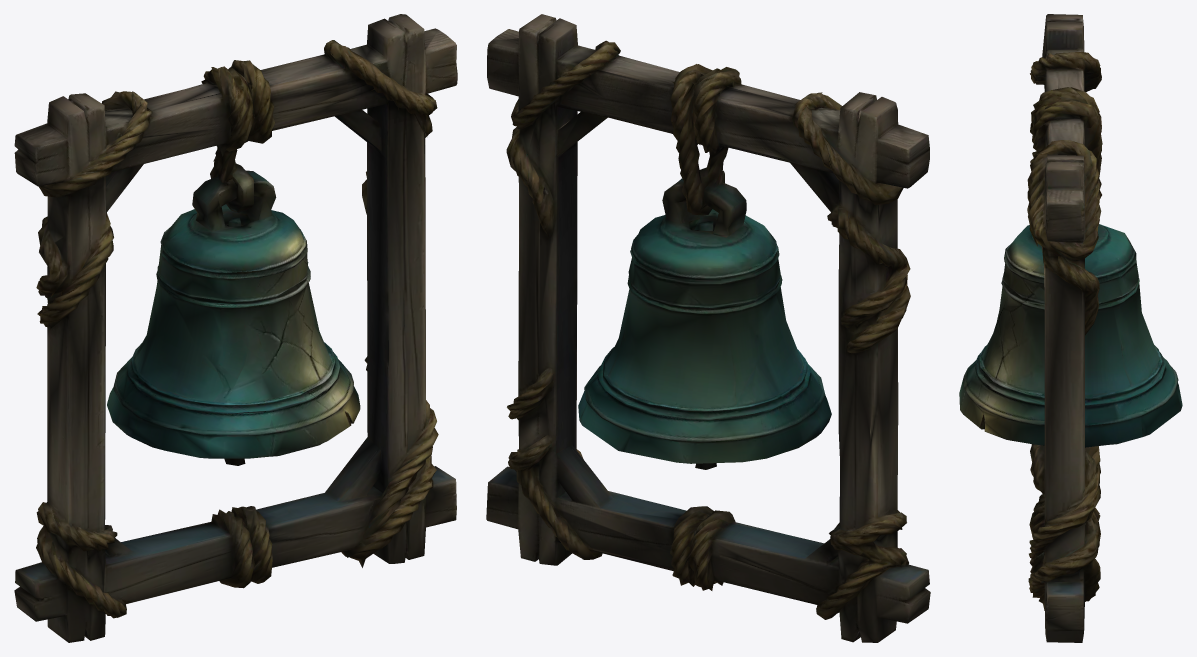
Rendered from OldBell.opt.glb.
3 views of the same model, side by side, from view 1: azimuth 30°, elevation 25°; view 2: azimuth 150°, elevation 25°; view 3: azimuth 270°, elevation 25° (orthographic). The views are drawn at different scales.
Parts seen in each view (by area): view 1: node_0; view 2: node_0; view 3: node_0.
Part boxes in pixels (box(x1,y1,x2,y2)): node_0: box(14, 14, 457, 642); node_0: box(486, 14, 930, 642); node_0: box(959, 14, 1182, 642).
Bounding box in the file's own units: 0.8099 × 0.9713 × 0.4114.
Materials: 1 (1 with a texture image).
